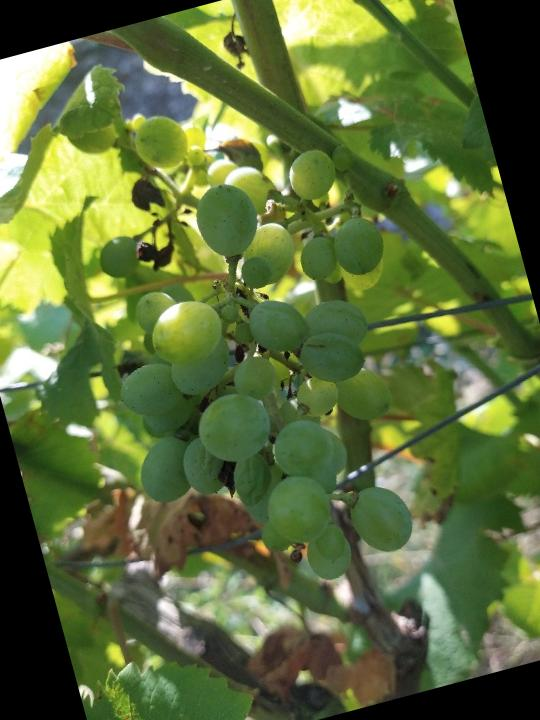grape: (47, 66, 469, 626)
